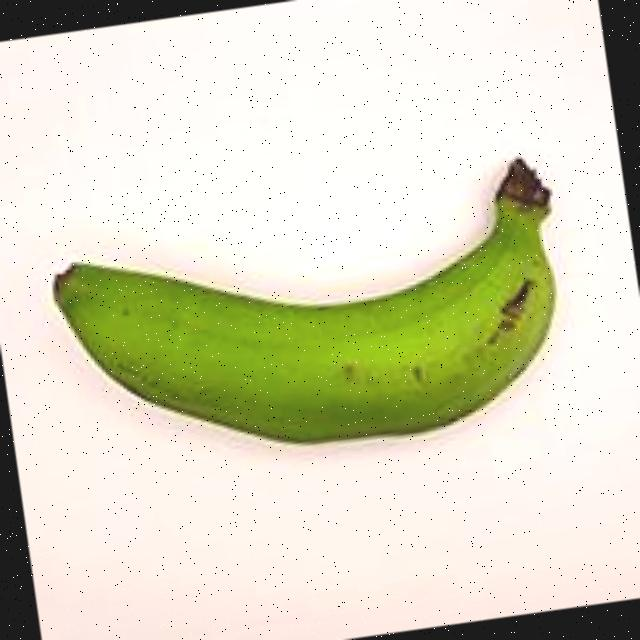Raw: (22, 110, 620, 516)
